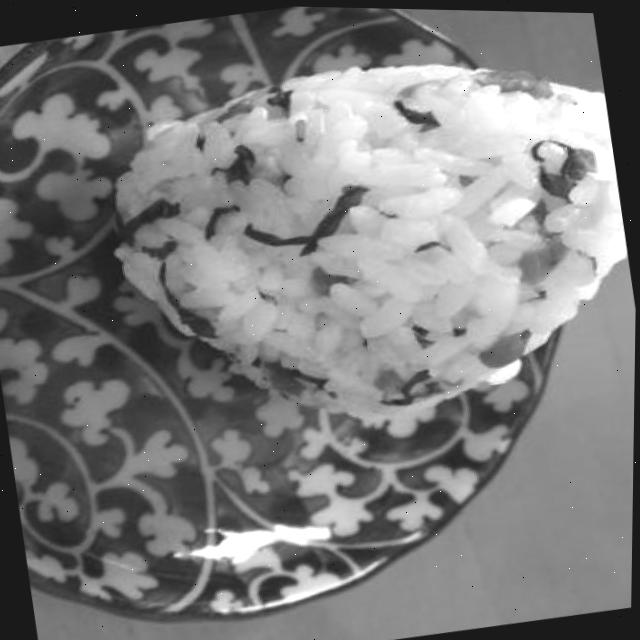米饭主食: (80, 13, 640, 475)
